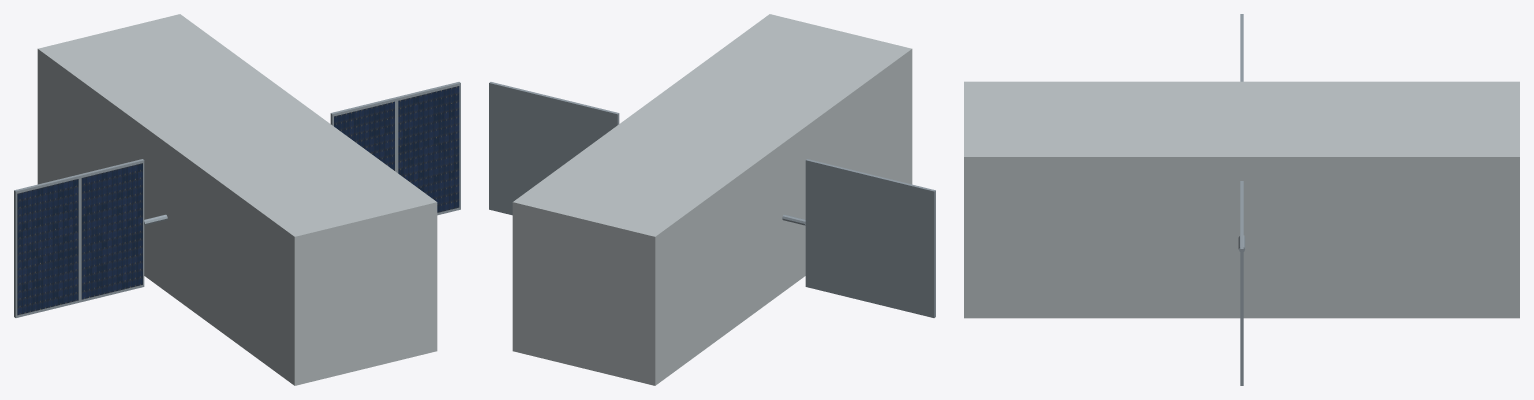
File: ref-chuangxin-19-cx-19-58505.glb
3 views of the same model, side by side, from view 1: azimuth 30°, elevation 25°; view 2: azimuth 150°, elevation 25°; view 3: azimuth 270°, elevation 25° (orthographic). The views are drawn at different scales.
Visible parts, largest first — view 1: Spacecraft body, Photovoltaic laminates (×4), Array frame (×4); view 2: Spacecraft body, Array frame (×4); view 3: Spacecraft body, Array frame.
Boxes of the visible parts, left/top/right/bottom form: Spacecraft body: left=37, top=14, right=437, bottom=385; Photovoltaic laminates (×4): left=17, top=86, right=459, bottom=315; Array frame (×4): left=14, top=82, right=460, bottom=317; Spacecraft body: left=512, top=14, right=912, bottom=385; Array frame (×4): left=489, top=82, right=935, bottom=317; Spacecraft body: left=964, top=81, right=1519, bottom=318; Array frame: left=1240, top=215, right=1243, bottom=385.
Bounding box in the file's own units: 2.5 × 0.8 × 2.5.
3 materials, 1 textured.
